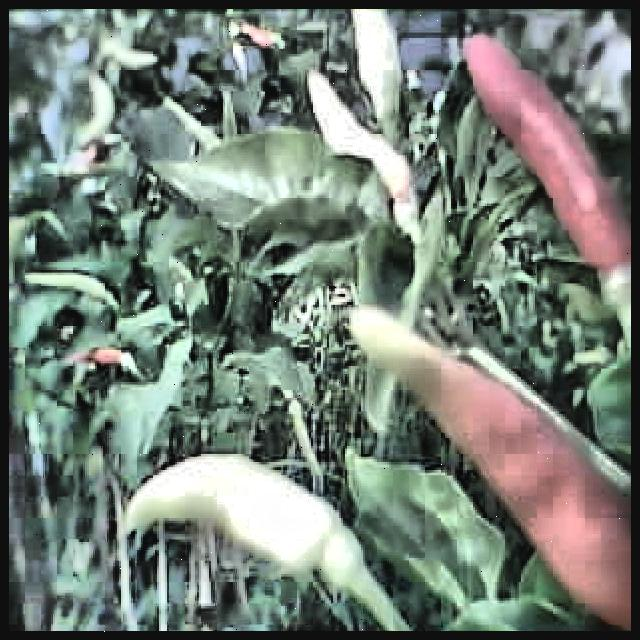Cabai: (352, 294, 631, 597), (459, 33, 631, 323), (56, 344, 148, 396)
